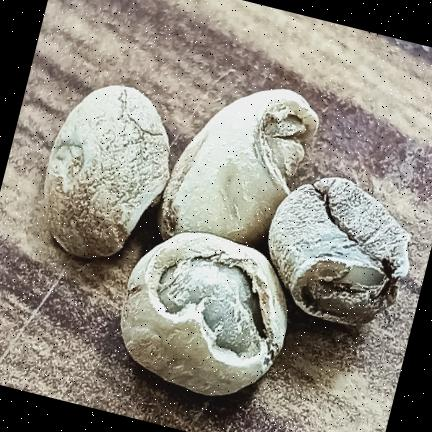cut: (120, 232, 286, 395), (158, 89, 318, 246), (44, 85, 169, 258), (268, 177, 410, 323)
